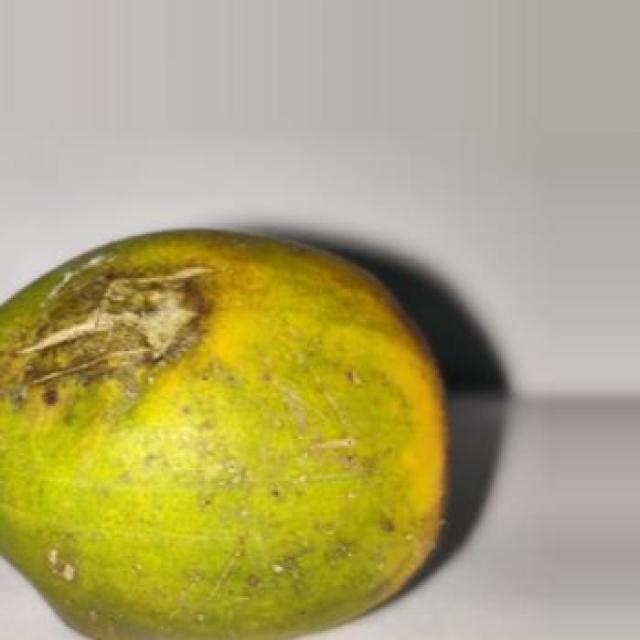damaged: (0, 230, 452, 638)
